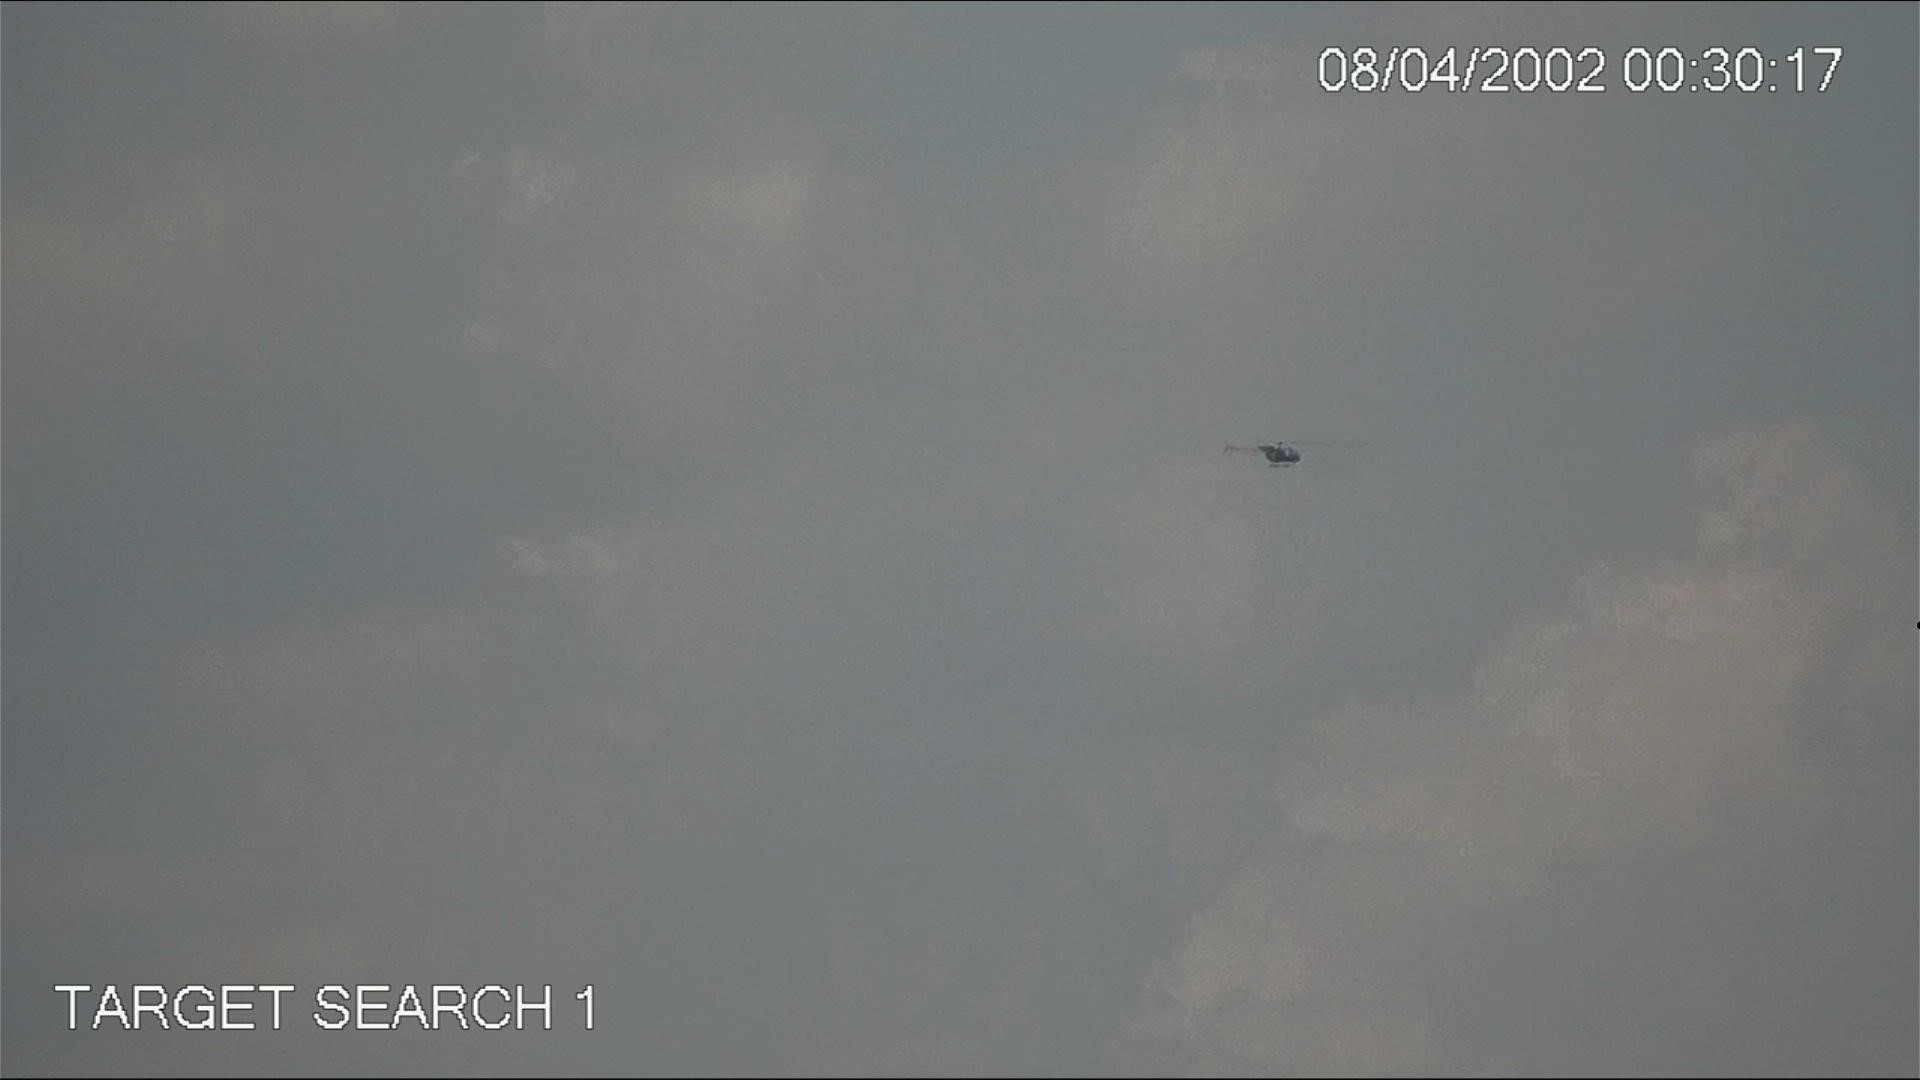SU_30: (1222, 436, 1309, 473)
